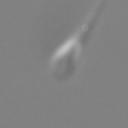abnormal: (73, 1, 113, 42)
